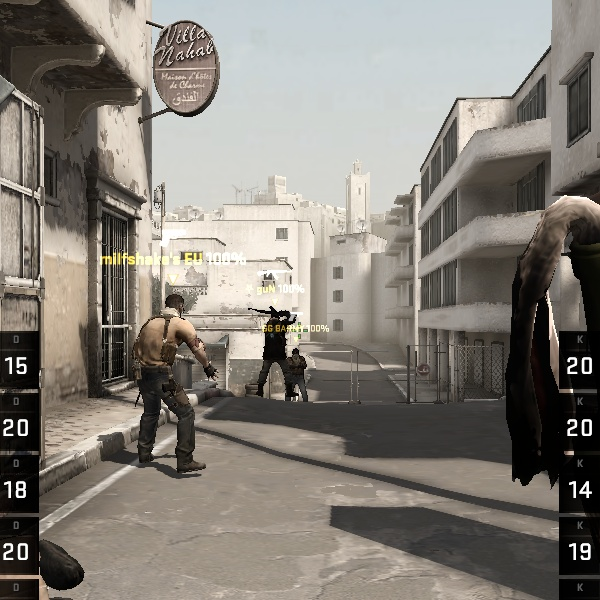ct_body: (249, 304, 308, 405)
t_body: (120, 289, 223, 477)
t_head: (159, 286, 194, 325)
